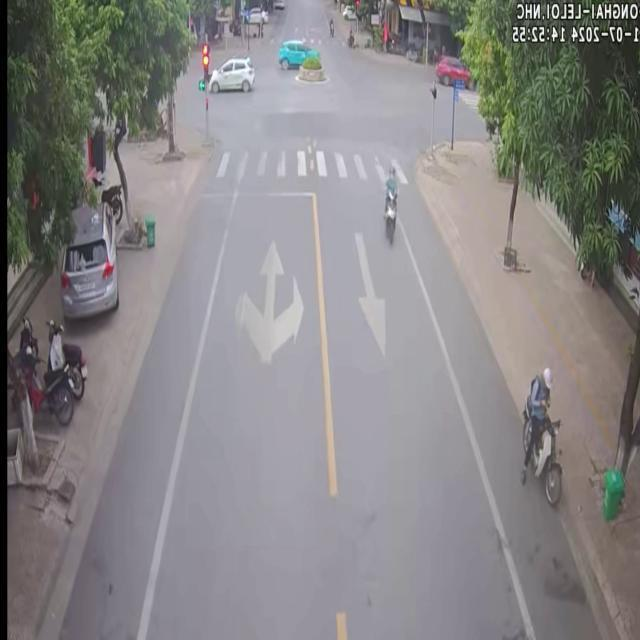car: (58, 200, 117, 316), (208, 56, 253, 91), (277, 38, 317, 66), (434, 54, 469, 85)
motobike: (519, 365, 560, 502), (14, 347, 72, 422), (46, 318, 86, 398), (382, 160, 396, 242)
red_light: (201, 46, 208, 83)
stop_line: (194, 189, 310, 193)
